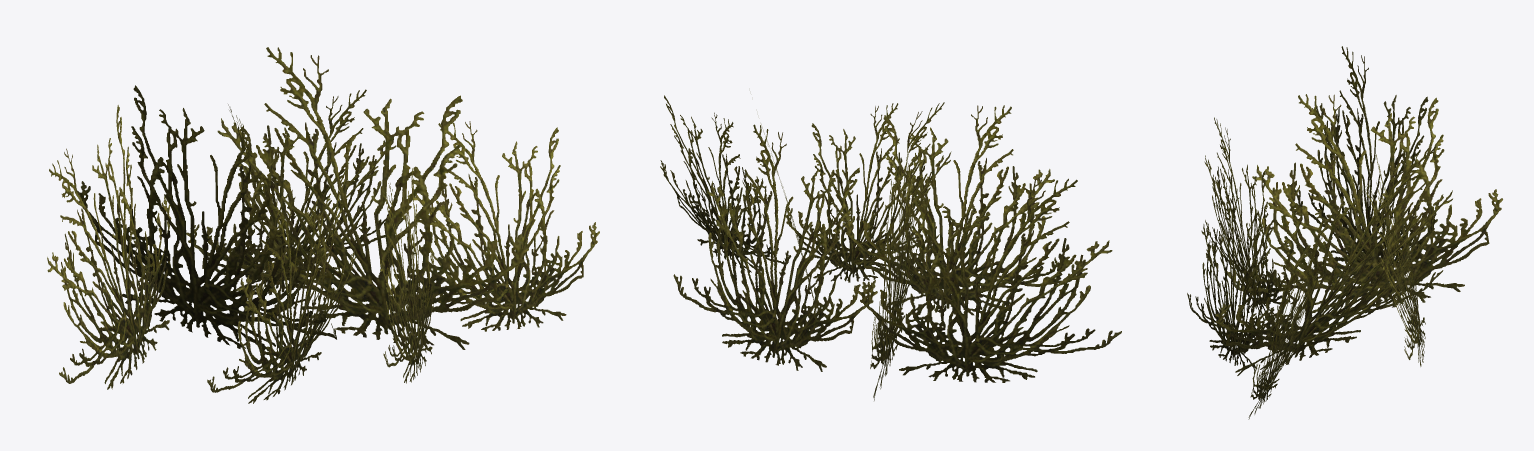
File: yw_leinabao_guanmu03.FBX
The picture shows the model from 3 angles, left to right: view 1: azimuth 30°, elevation 25°; view 2: azimuth 150°, elevation 25°; view 3: azimuth 270°, elevation 25°; orthographic projection. The views are drawn at different scales.
Parts seen in each view (by area): view 1: yw_leinabao_guanmu03; view 2: yw_leinabao_guanmu03; view 3: yw_leinabao_guanmu03.
Boxes of the visible parts, x1=… form: yw_leinabao_guanmu03: x1=47, y1=47, x2=599, y2=403; yw_leinabao_guanmu03: x1=660, y1=95, x2=1121, y2=400; yw_leinabao_guanmu03: x1=1187, y1=46, x2=1502, y2=419.
Size of the model in its own units: 282 by 135 by 171.
